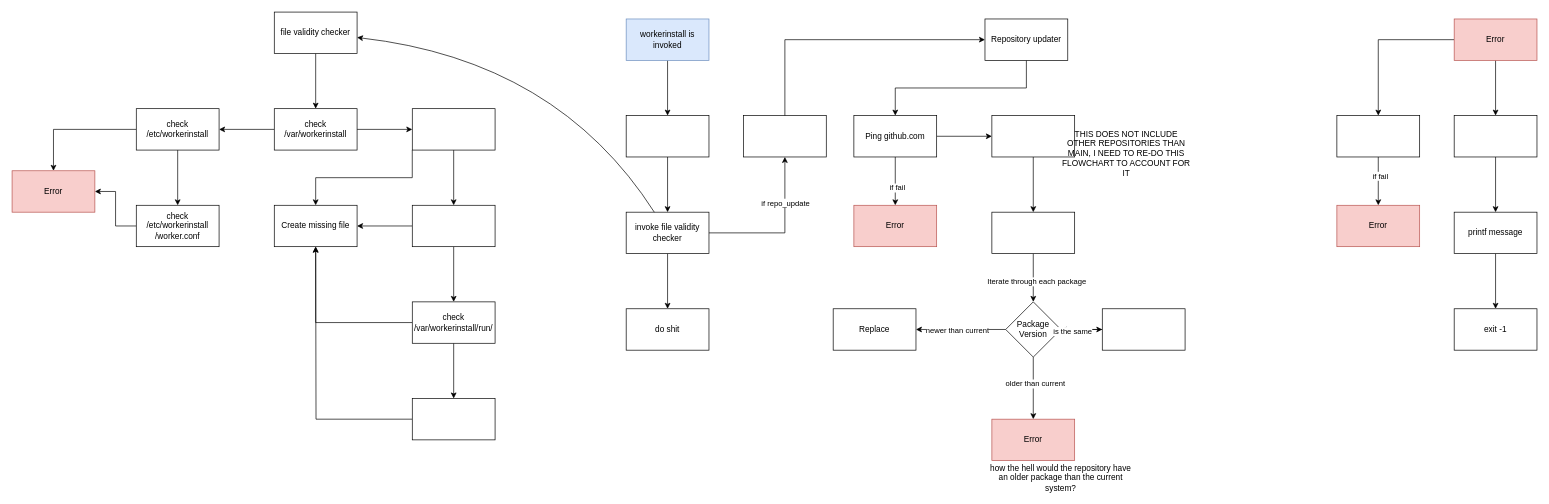
The diagram is 1549 pixels wide and 504 high, and some of its shapes have lost their labels. Here are the shapes that lost their labels. From the top down, the centre of each, then its label:
At (453,129): "check /var/workerinstall/installed.xml".
At (667,136): "argument parser".
At (784,136): "invoked repo updater".
At (1033,136): "Fetch packages list".
At (1378,136): "save error to /var/logs/workerinstall".
At (1495,136): "printf severity".
At (453,226): "check /var/workerinstall/packages/".
At (1033,232): "Loop through each package from the manifest".
At (1143,329): "Do nothing".
At (453,419): "check /var/workerinstall/distfiles/".
